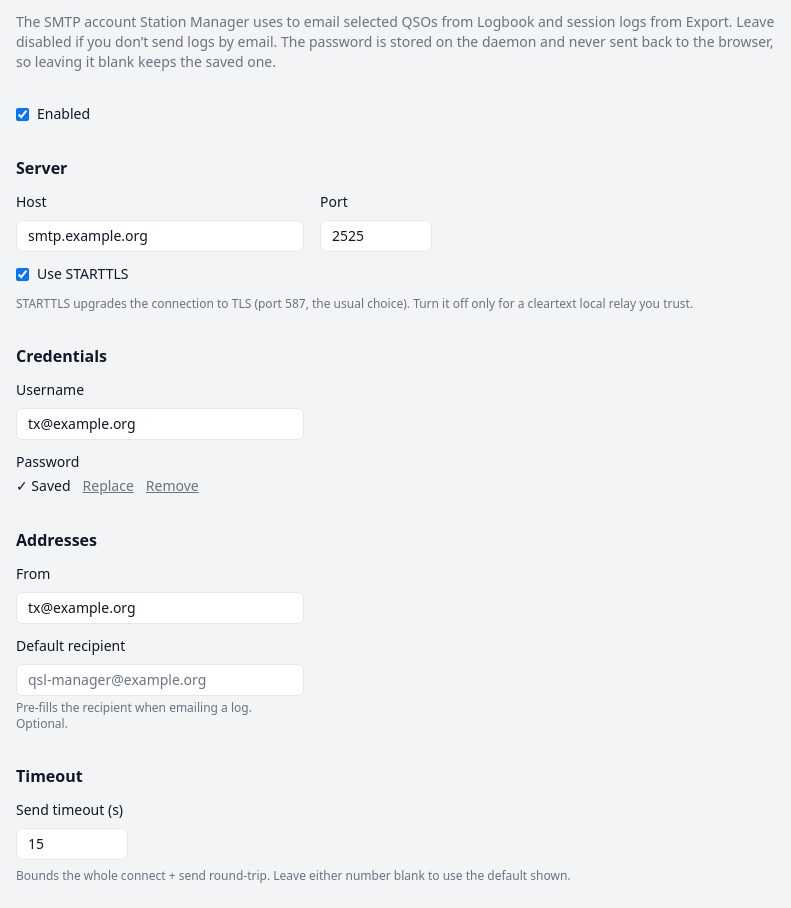
Test: EmailSection › U3: shows a pending removal, and can undo it
This screenshot has width=791, height=908.
Step 1. Click the button with aria-label "Remove Password" → click(172, 486), box 146,476 -> 199,496
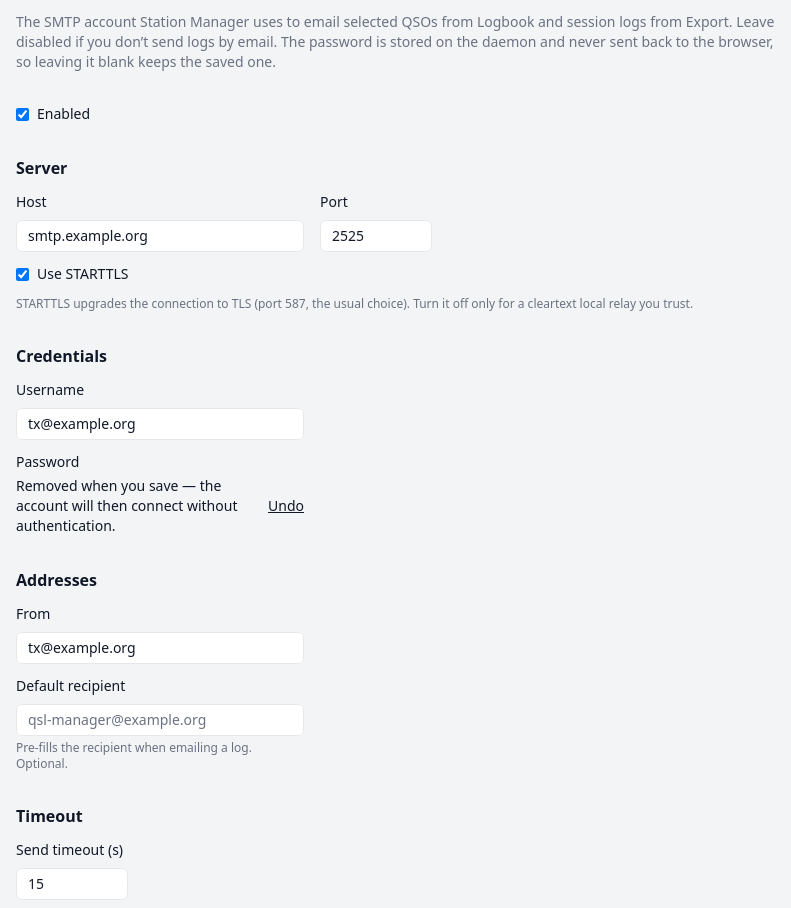
Now the element with test id "removal-pending" shows "Removed when you save — the account will then connect without authentication", box 16,476 -> 237,535
Step 2. Click the button with aria-label "Undo removing Password" → click(286, 506), box 268,496 -> 304,516
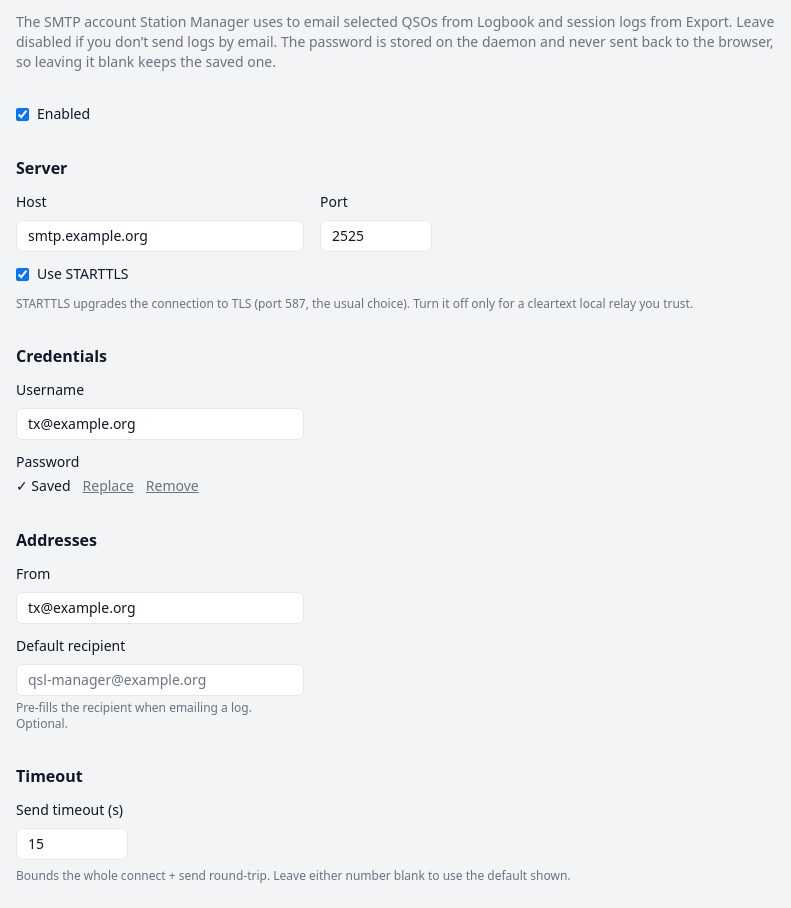
Now the element with test id "removal-pending" is gone
